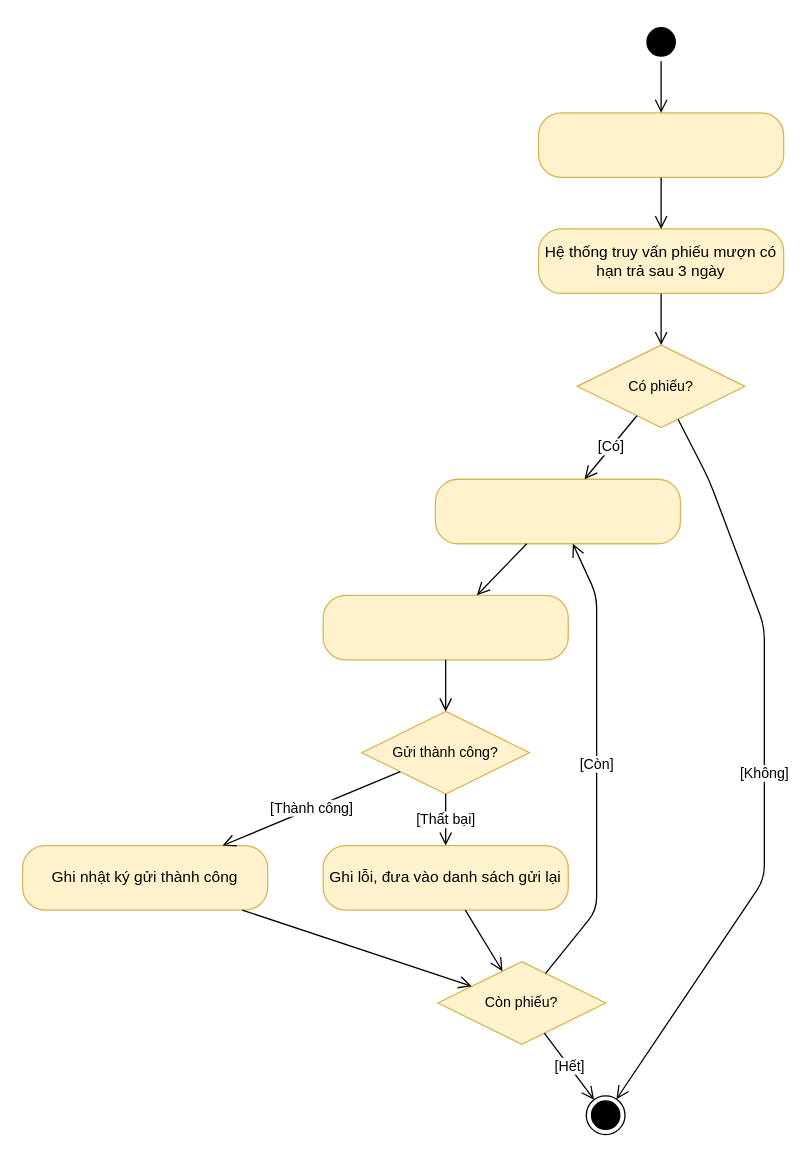
This 811x1157 diagram has some shape labels left out. The shapes that lost their labels are listed below. From the top down, each one's box as (x1, y1, x2, y2) in pixels, then its label:
(537, 112, 784, 177): Bộ định thời kích hoạt chức năng nhắc hạn
(434, 478, 680, 544): Lập nội dung email cho phiếu tiếp theo
(322, 594, 568, 660): Gửi email qua Mail Server
